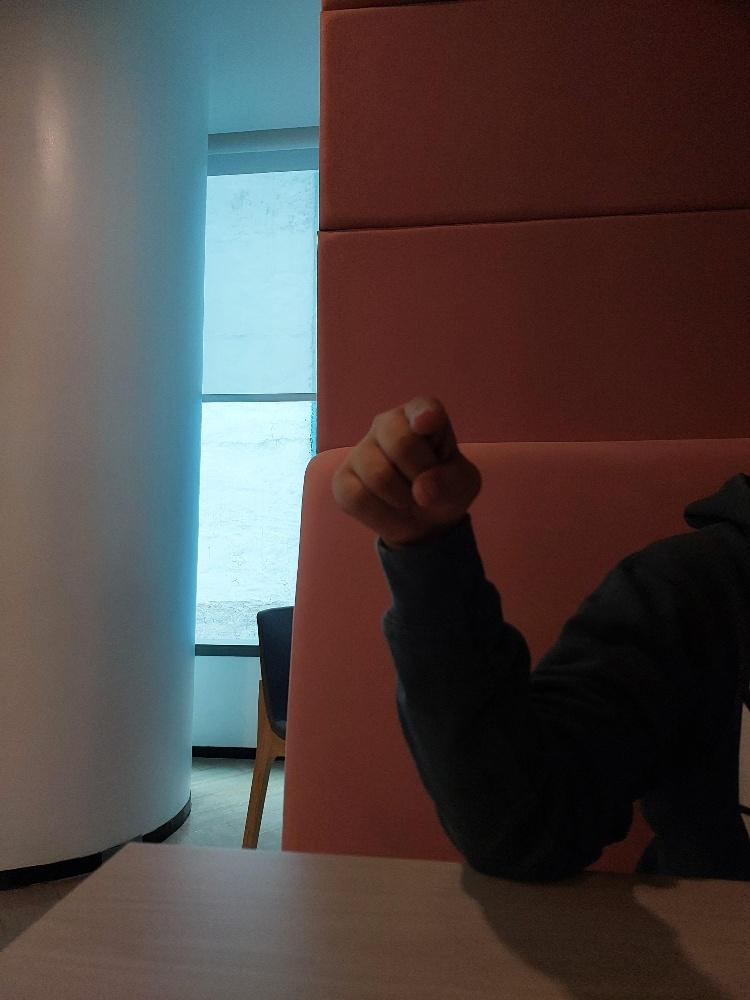z: (325, 387, 491, 560)
